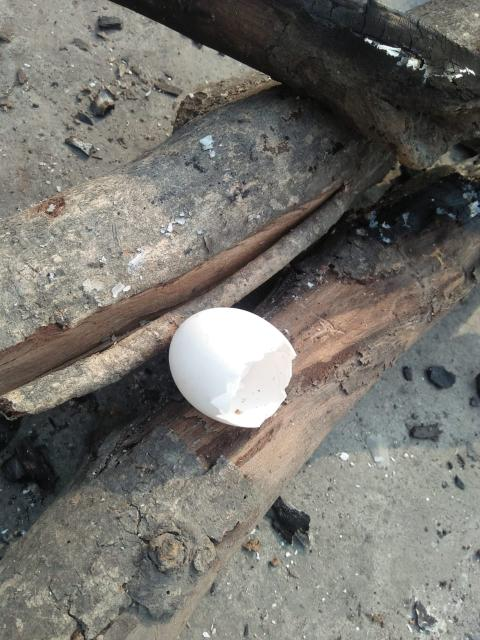Roto: (167, 306, 296, 428)
